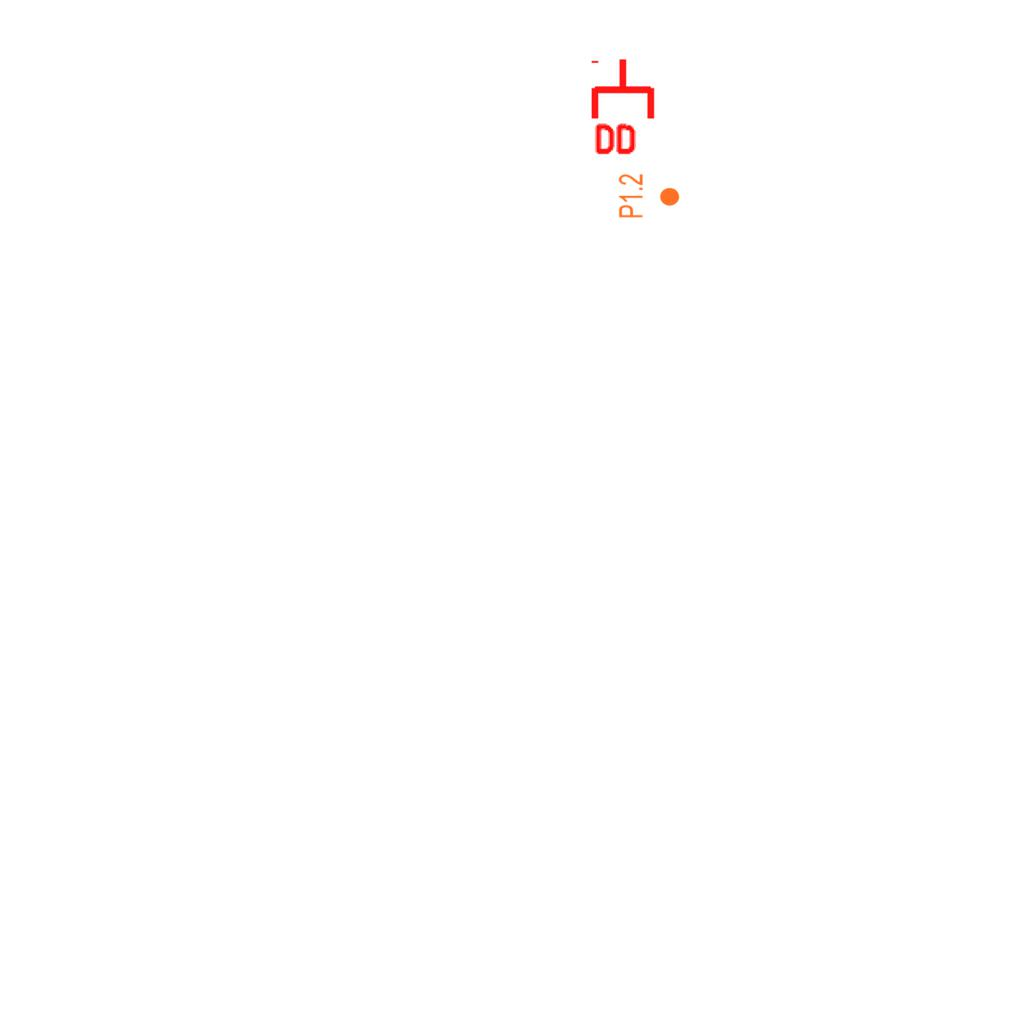Datenanschluss_zweifach: (590, 56, 659, 159)
Downlight_LED_Einbauleuchten_Flur: (617, 173, 681, 219)
